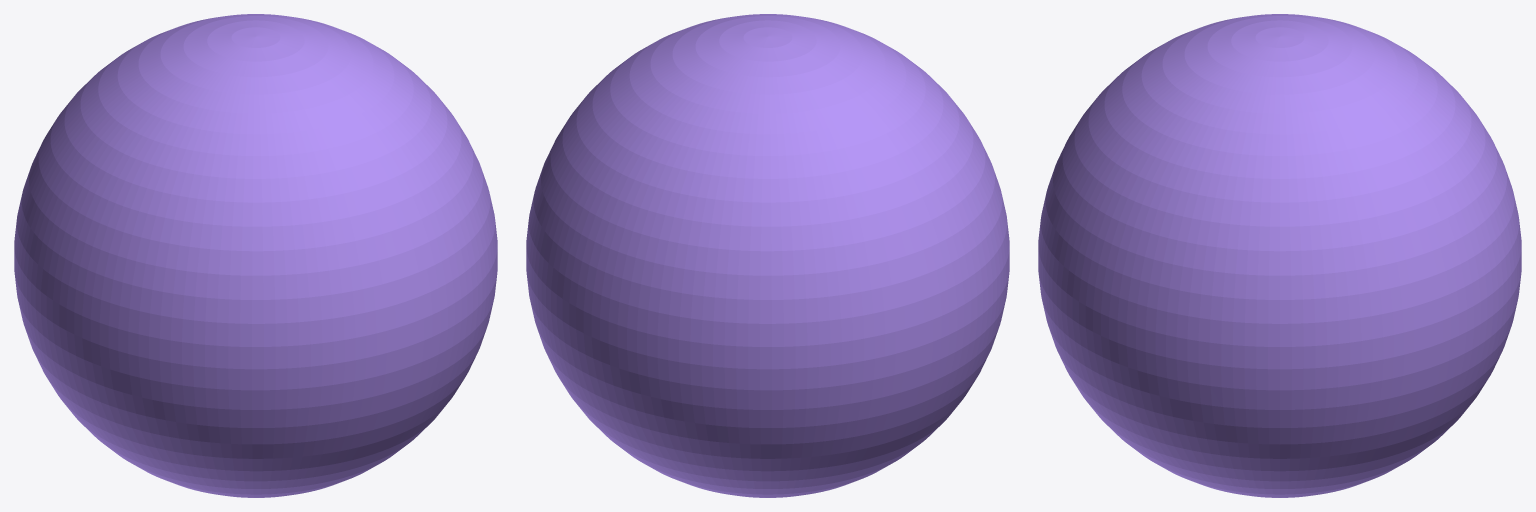
Rendered from ball_purple.glb.
3 renders of one model, left to right at view 1: azimuth 30°, elevation 25°; view 2: azimuth 150°, elevation 25°; view 3: azimuth 270°, elevation 25°, orthographic.
Parts seen in each view (by area): view 1: geometry_0; view 2: geometry_0; view 3: geometry_0.
Part boxes in pixels (box(x1,y1,x2,y2)): geometry_0: box(14, 14, 497, 497); geometry_0: box(526, 14, 1009, 497); geometry_0: box(1038, 14, 1521, 497).
Bounding box in the file's own units: 0.2197 × 0.22 × 0.2197.
